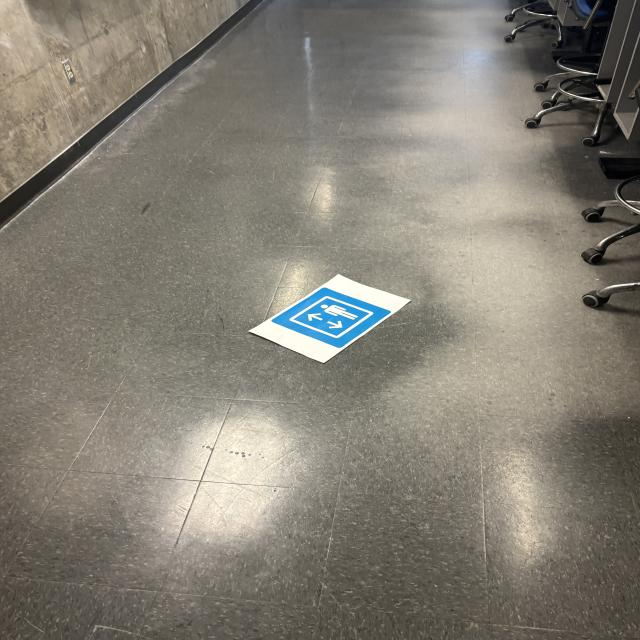elevator: (269, 287, 389, 347)
